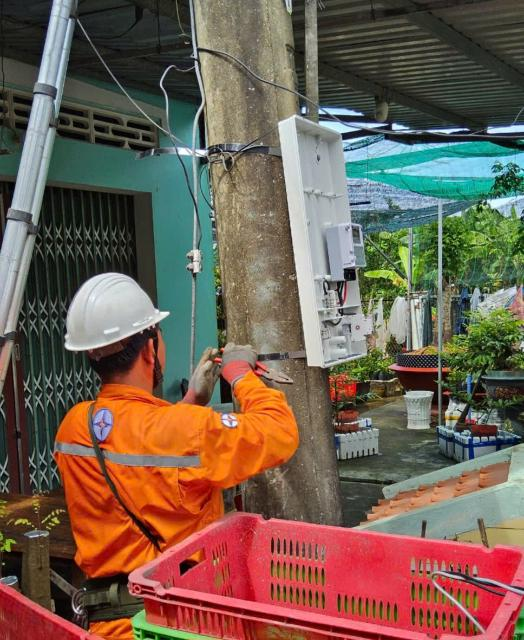gloves: (210, 328, 267, 390), (182, 348, 233, 407)
harness: (64, 570, 230, 619)
helmet: (43, 264, 186, 362)
